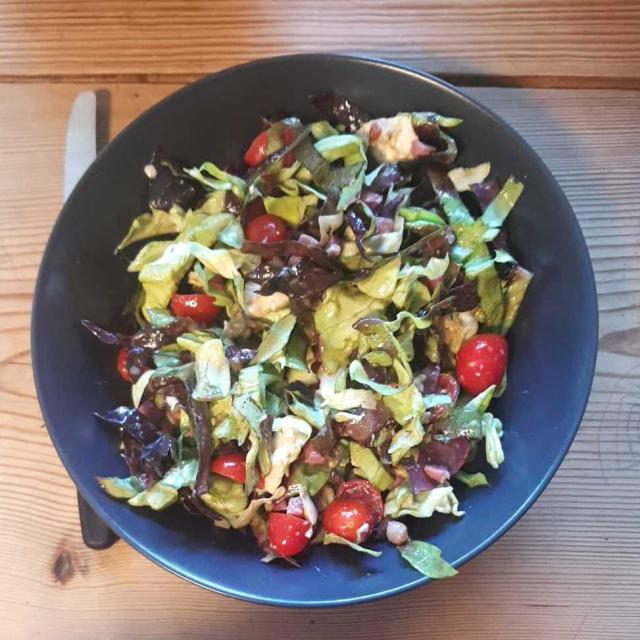mixed-salad-chopped-without-sauce: (121, 104, 542, 554)
tomato-raw: (110, 121, 516, 571)
